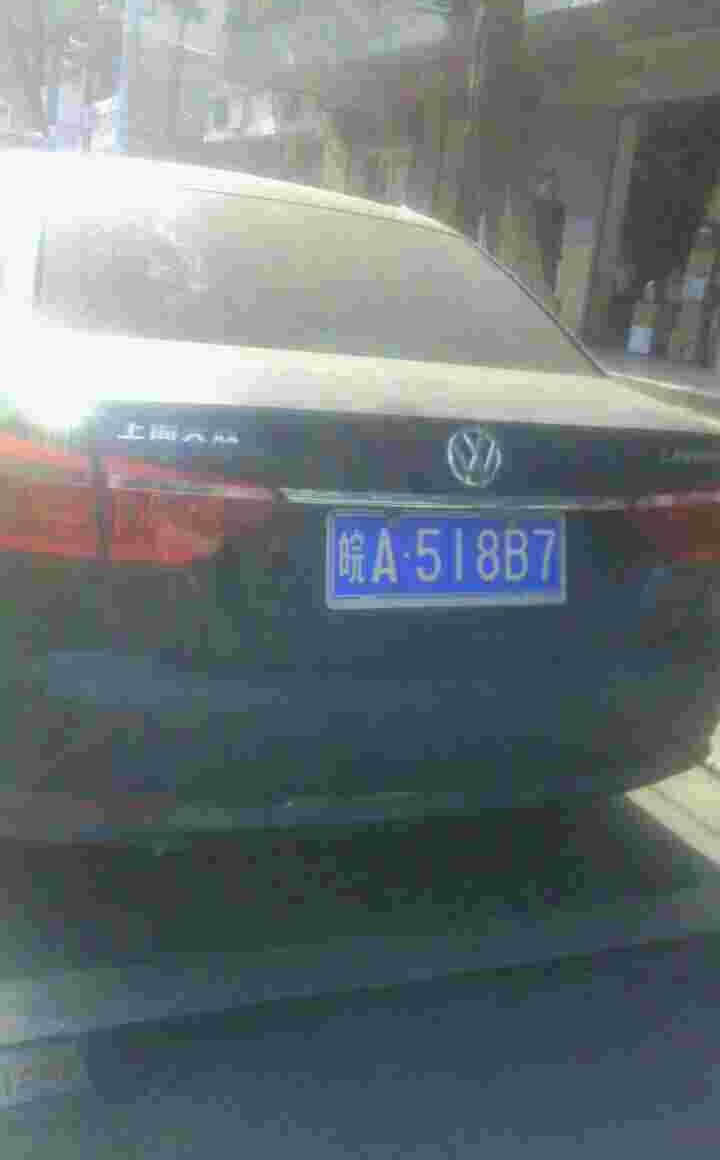plate: (338, 511, 571, 599)
